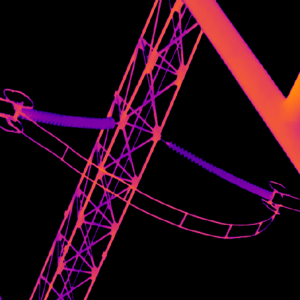insulator: (163, 137, 274, 201), (15, 103, 115, 130)
